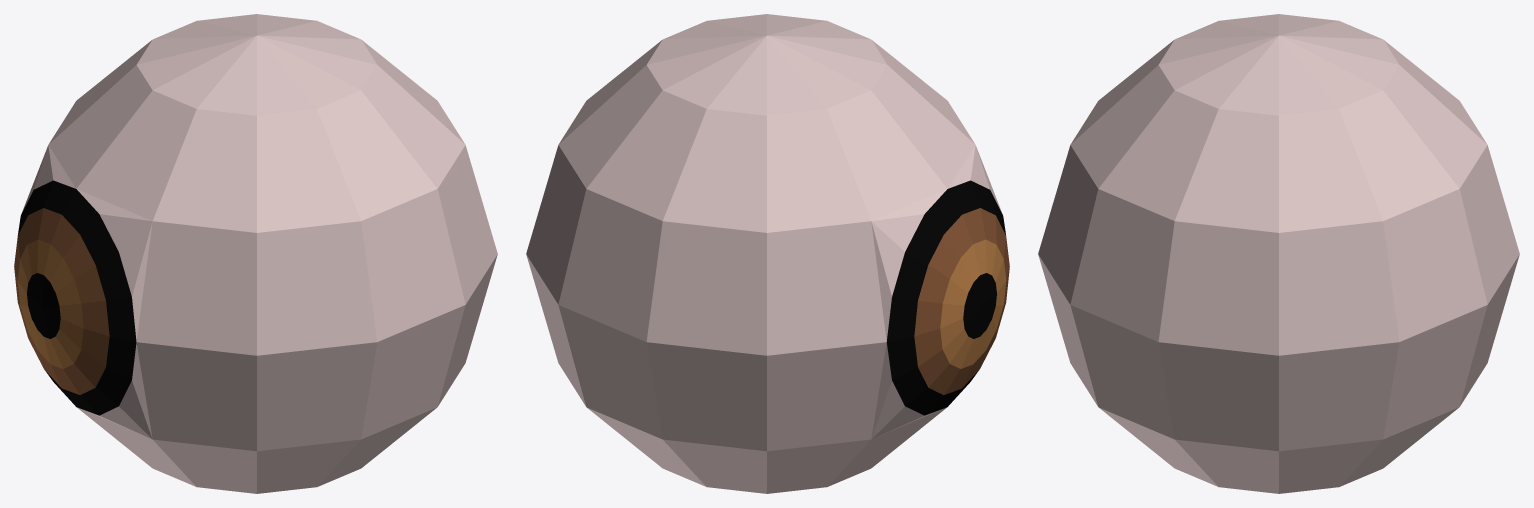
File: eye.fbx
The picture shows the model from 3 angles, left to right: view 1: azimuth 30°, elevation 25°; view 2: azimuth 150°, elevation 25°; view 3: azimuth 270°, elevation 25°; orthographic projection.
Parts seen in each view (by area): view 1: Circle; view 2: Circle; view 3: Circle.
Boxes of the visible parts, x1,y1,x2,y2 form: Circle: (14, 14, 497, 493); Circle: (526, 14, 1009, 493); Circle: (1038, 14, 1519, 493).
Bounding box in the file's own units: 35.01 × 34.45 × 34.45.
